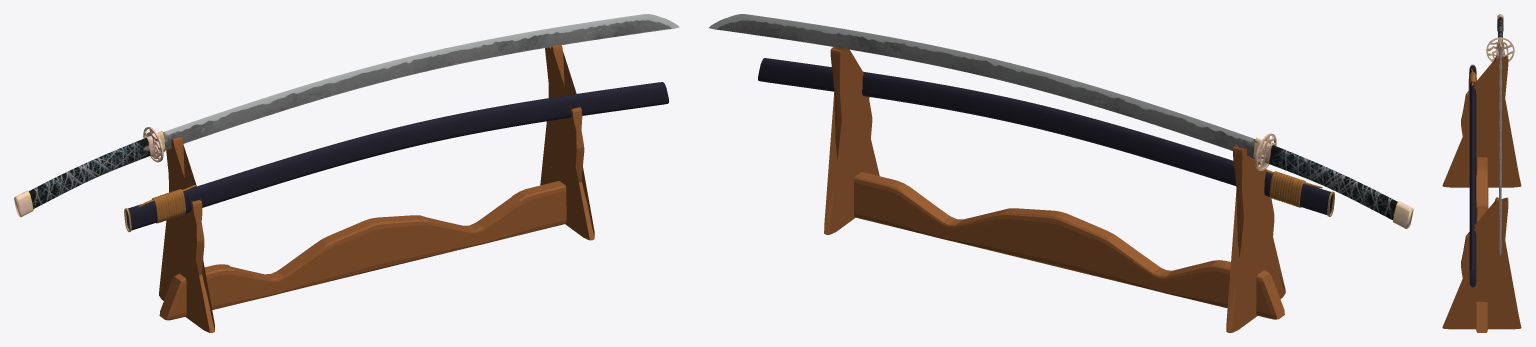
File: Katana.fbx
3 renders of one model, left to right at view 1: azimuth 30°, elevation 25°; view 2: azimuth 150°, elevation 25°; view 3: azimuth 270°, elevation 25°, orthographic. The views are drawn at different scales.
Parts seen in each view (by area): view 1: Cube.002, Katana.001, Vaina.001; view 2: Cube.002, Katana.001, Vaina.001; view 3: Cube.002, Vaina.001, Katana.001.
Boxes of the visible parts, x1=… form: Cube.002: x1=159, y1=44, x2=594, y2=332; Katana.001: x1=14, y1=14, x2=679, y2=217; Vaina.001: x1=124, y1=82, x2=669, y2=232; Cube.002: x1=824, y1=46, x2=1285, y2=332; Katana.001: x1=709, y1=14, x2=1413, y2=228; Vaina.001: x1=758, y1=58, x2=1334, y2=216; Cube.002: x1=1442, y1=55, x2=1521, y2=332; Vaina.001: x1=1468, y1=64, x2=1476, y2=287; Katana.001: x1=1486, y1=14, x2=1514, y2=255.
Size of the model in its own units: 1999 by 551 by 269.
